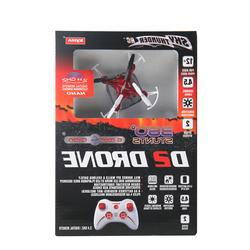drone: (88, 49, 161, 119)
